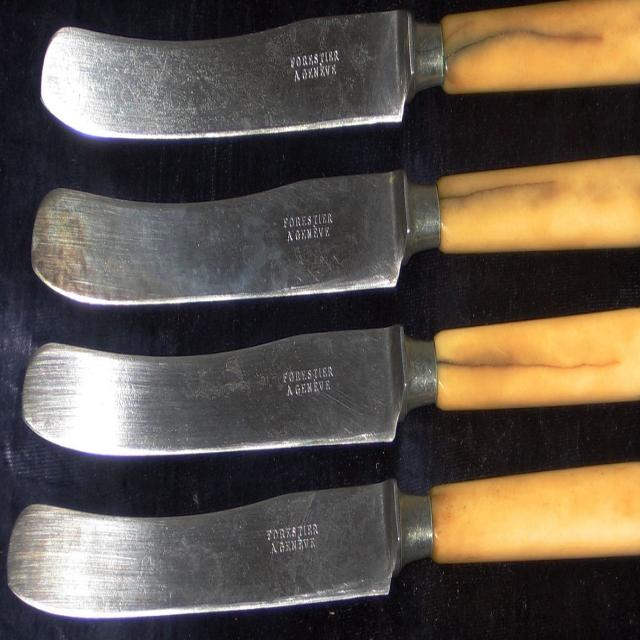Weapon: (8, 462, 640, 618), (23, 309, 640, 456), (32, 157, 640, 304), (41, 0, 640, 138)
